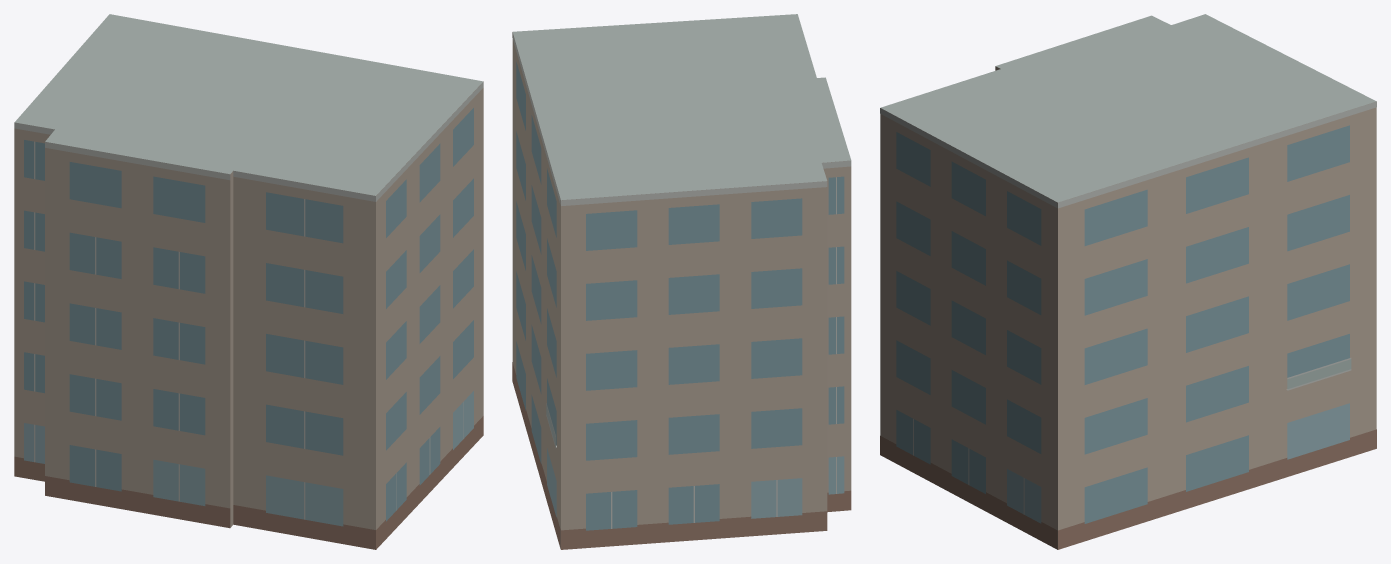
File: survey-upis-33041966.glb
3 renders of one model, left to right at view 1: azimuth 30°, elevation 25°; view 2: azimuth 150°, elevation 25°; view 3: azimuth 270°, elevation 25°, orthographic.
Visible parts, largest first — view 1: survey-upis-33041966.tmp; view 2: survey-upis-33041966.tmp; view 3: survey-upis-33041966.tmp.
Boxes of the visible parts, left/top/right/bottom form: survey-upis-33041966.tmp: left=14, top=14, right=483, bottom=549; survey-upis-33041966.tmp: left=512, top=14, right=851, bottom=549; survey-upis-33041966.tmp: left=880, top=14, right=1376, bottom=549.
Bounding box in the file's own units: 16.66 × 14.3 × 18.54.
